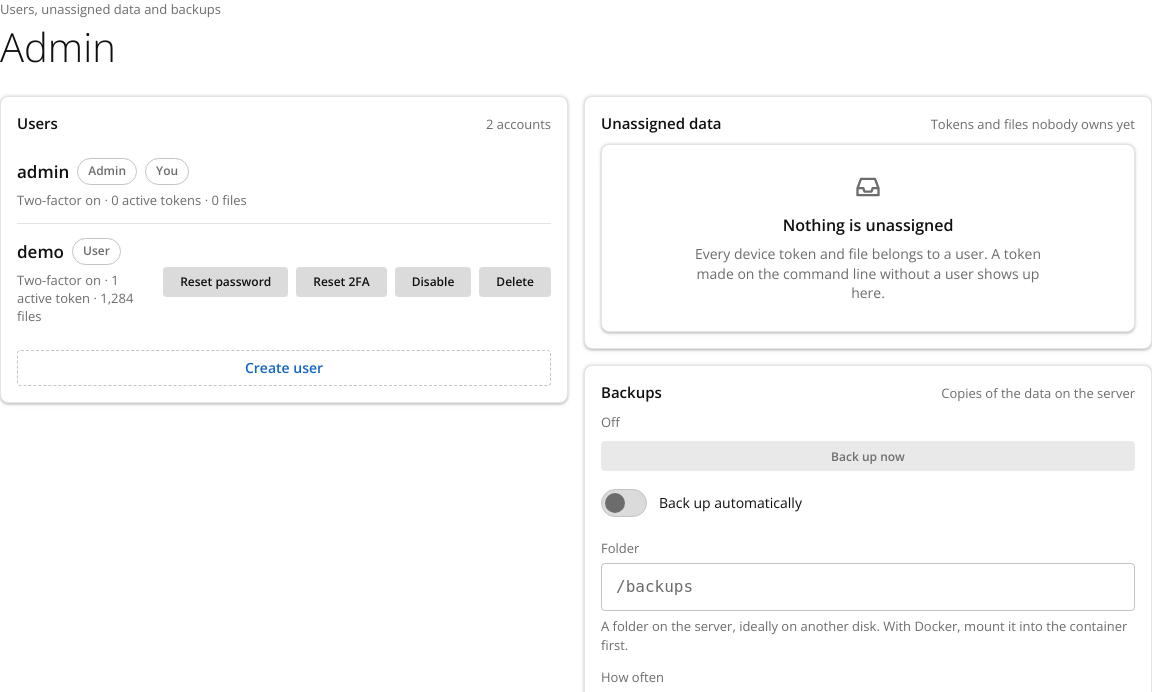
Test: Admin: users › resets two-factor after a confirmation
Click the button with aria-label "Reset 2FA of demo". click: (342, 282)
box: 296,267 -> 387,297
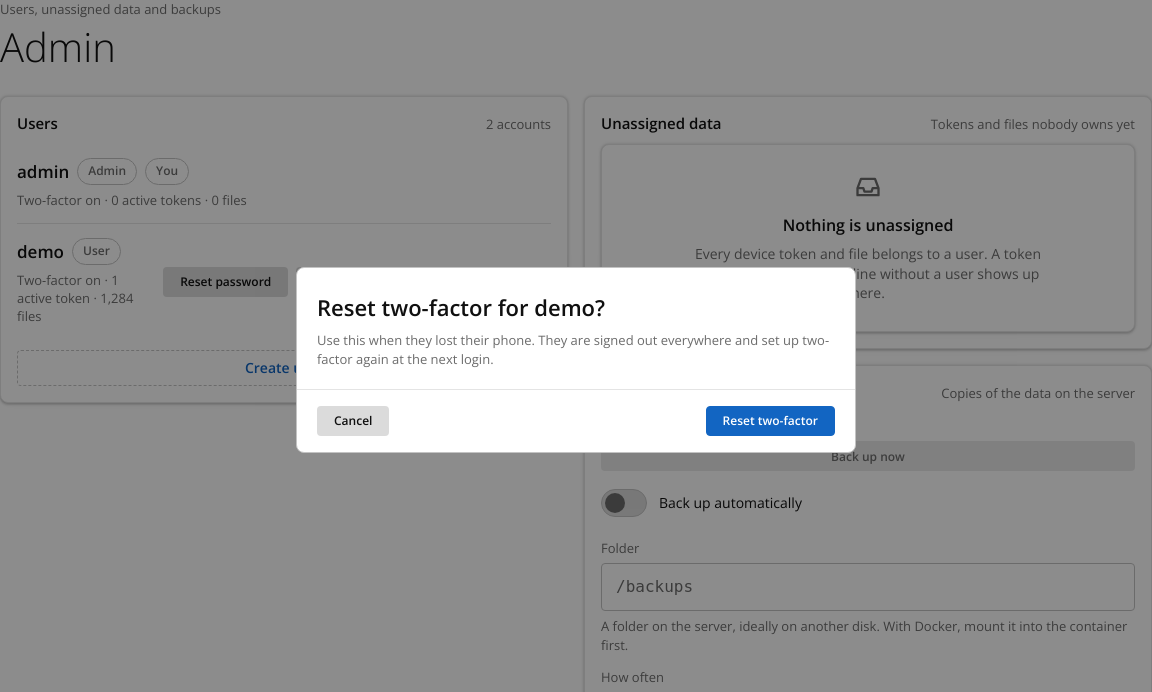
Click the button "Reset two-factor". click: (770, 421)
box: 706,406 -> 835,436
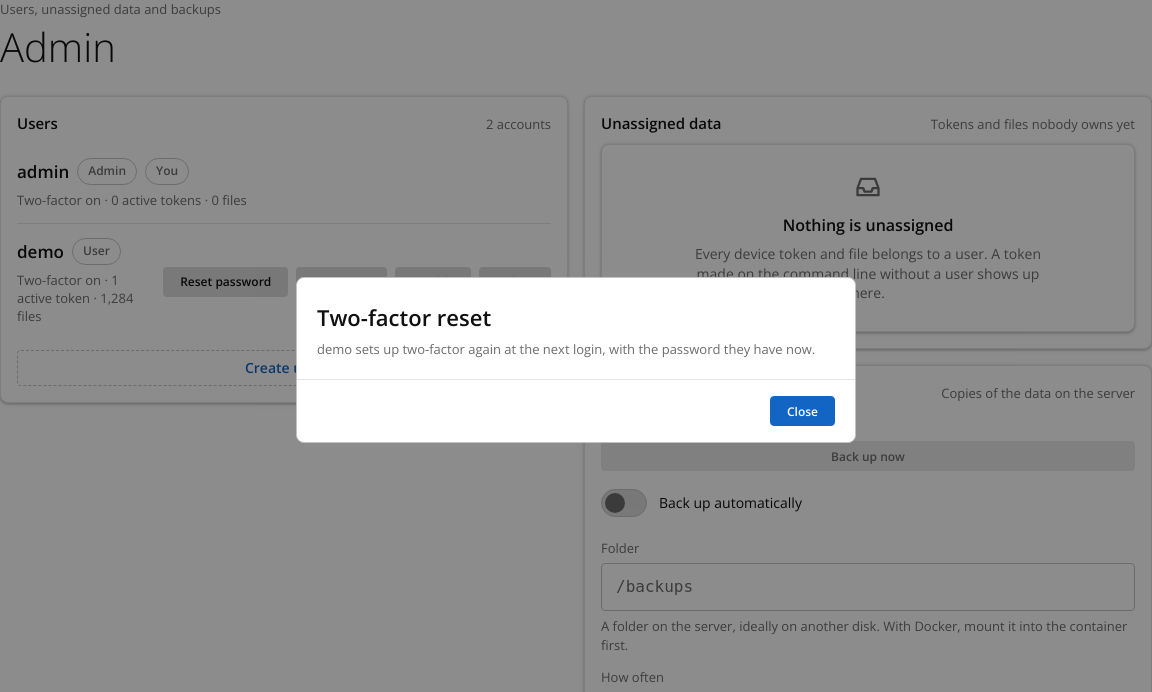
Now the dialog "Two-factor reset" is shown, box 296,277 -> 856,443
